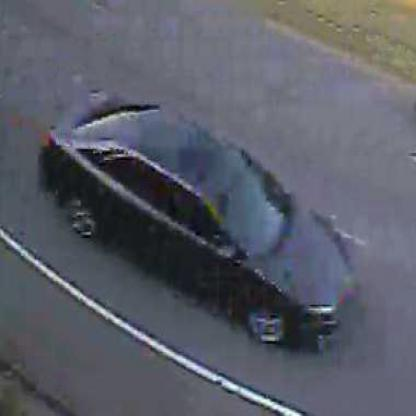car: (41, 100, 353, 356)
